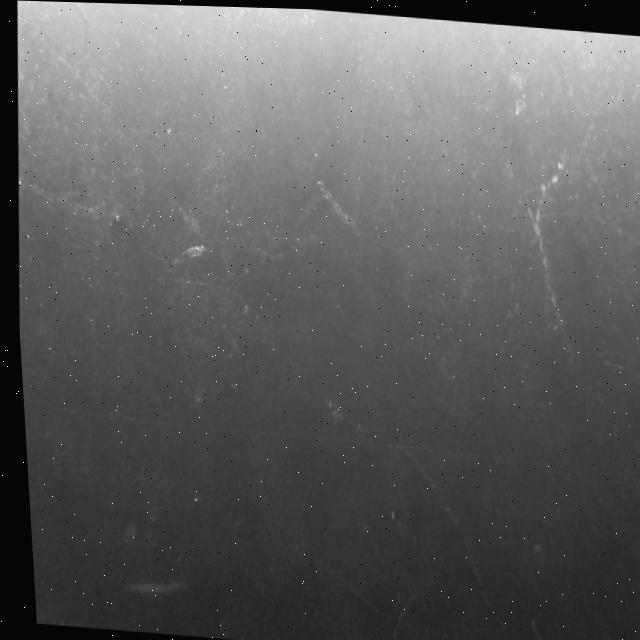beta: (391, 443, 490, 609), (510, 139, 576, 327), (141, 446, 201, 636), (12, 164, 127, 228), (379, 584, 426, 640)
